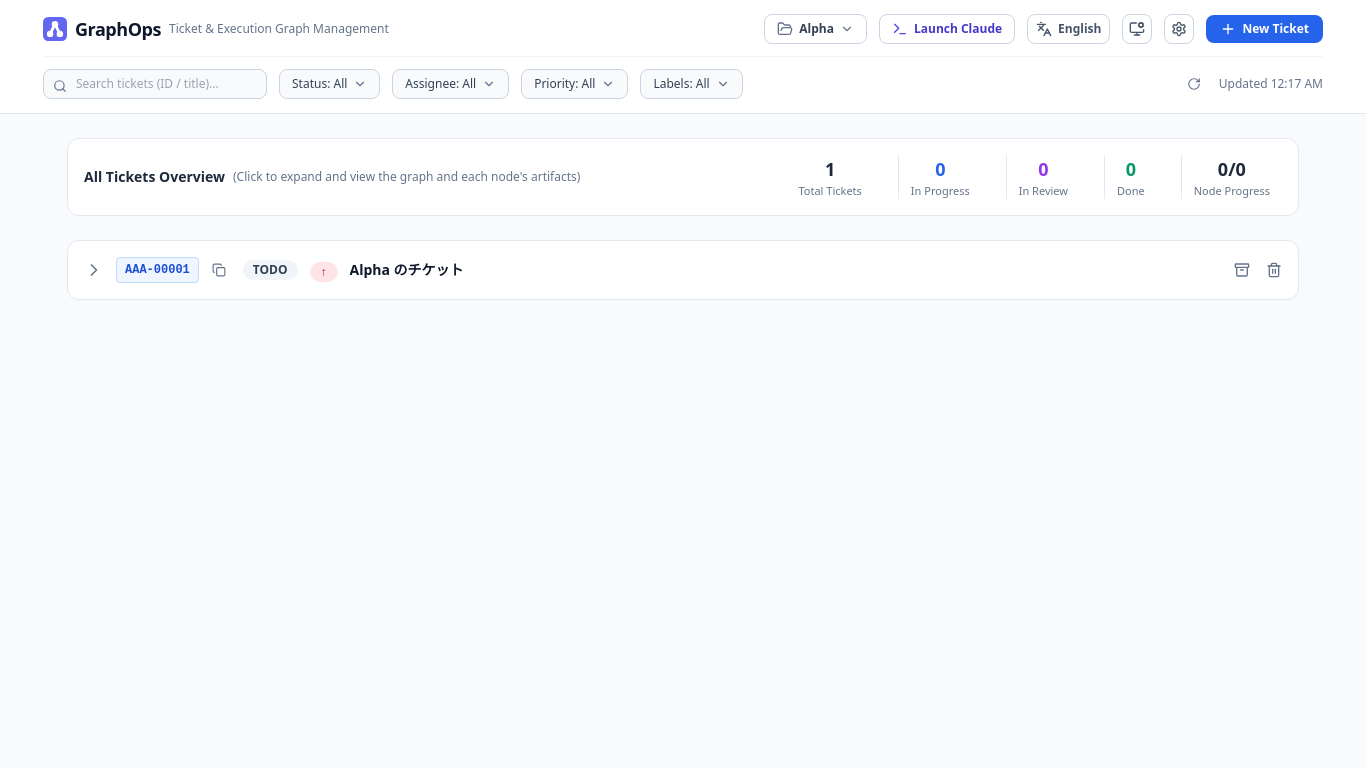
it: project switcher accessibility › aria-haspopup and the popup it opens › names the popup in English too
Expected: the text "AAA-00001" is shown, [116,257,199,283]
Click the button "Alpha": (816, 29) [764,14,867,44]
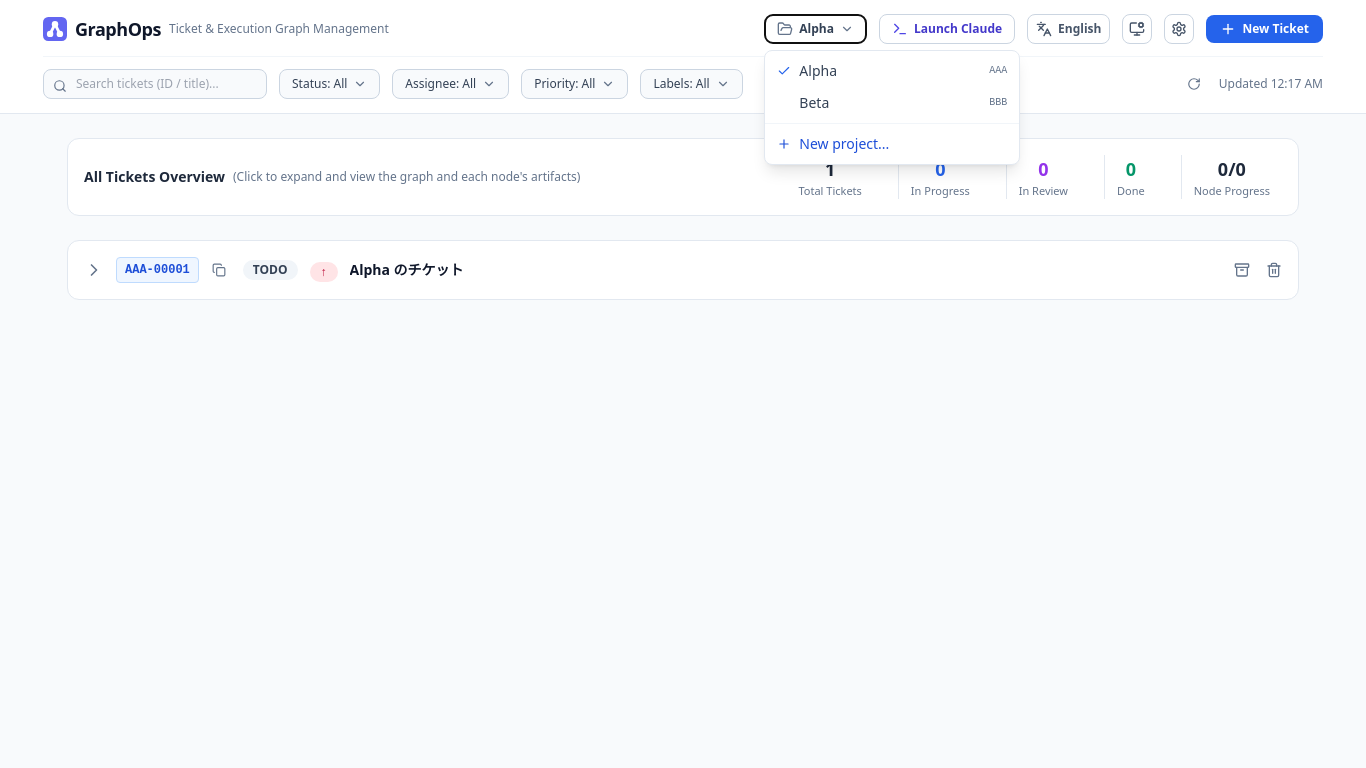
Result: the dialog named "Switch project" is shown at [764,50,1020,165]
